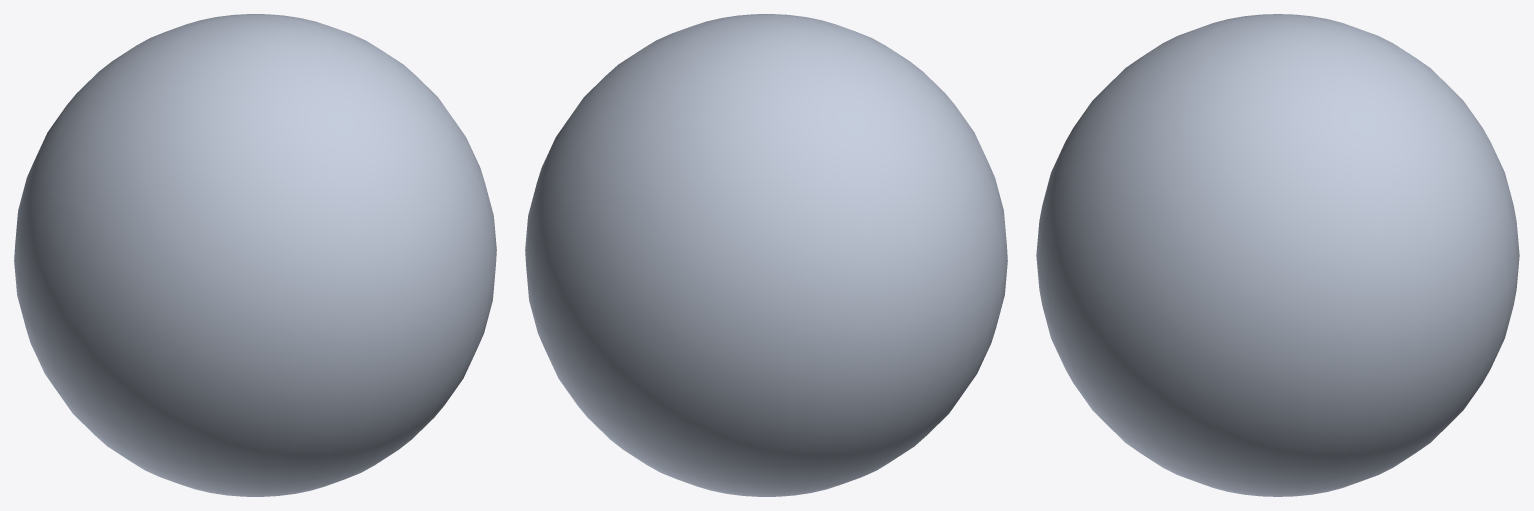
3 renders of one model, left to right at view 1: azimuth 30°, elevation 25°; view 2: azimuth 150°, elevation 25°; view 3: azimuth 270°, elevation 25°, orthographic.
Parts seen in each view (by area): view 1: 球体.1; view 2: 球体.1; view 3: 球体.1.
Part boxes in pixels (<box>): 球体.1: <box>14,14,496,496</box>; 球体.1: <box>525,14,1007,496</box>; 球体.1: <box>1036,14,1519,496</box>.
Bounding box in the file's own units: 0.375 × 0.375 × 0.375.
